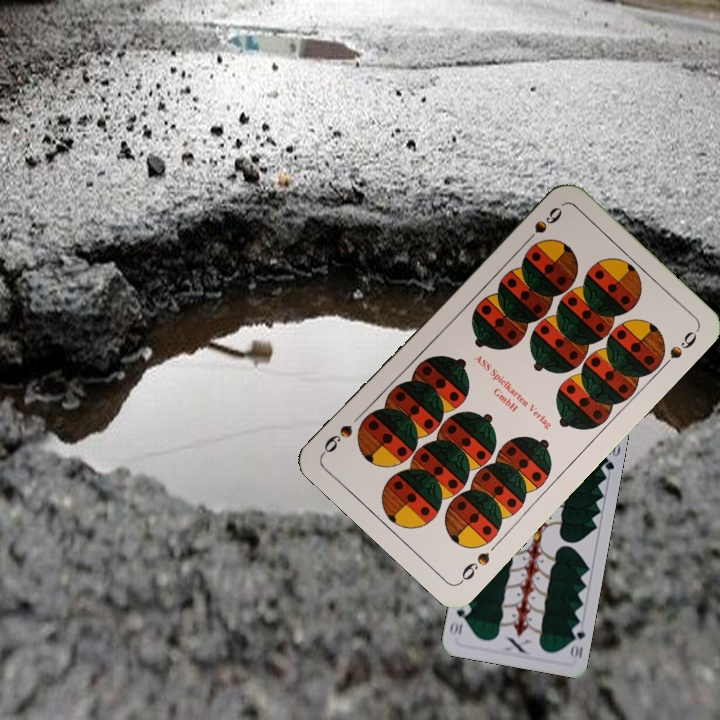G10: (566, 621, 588, 662)
S9: (519, 202, 565, 248), (455, 548, 493, 586)
